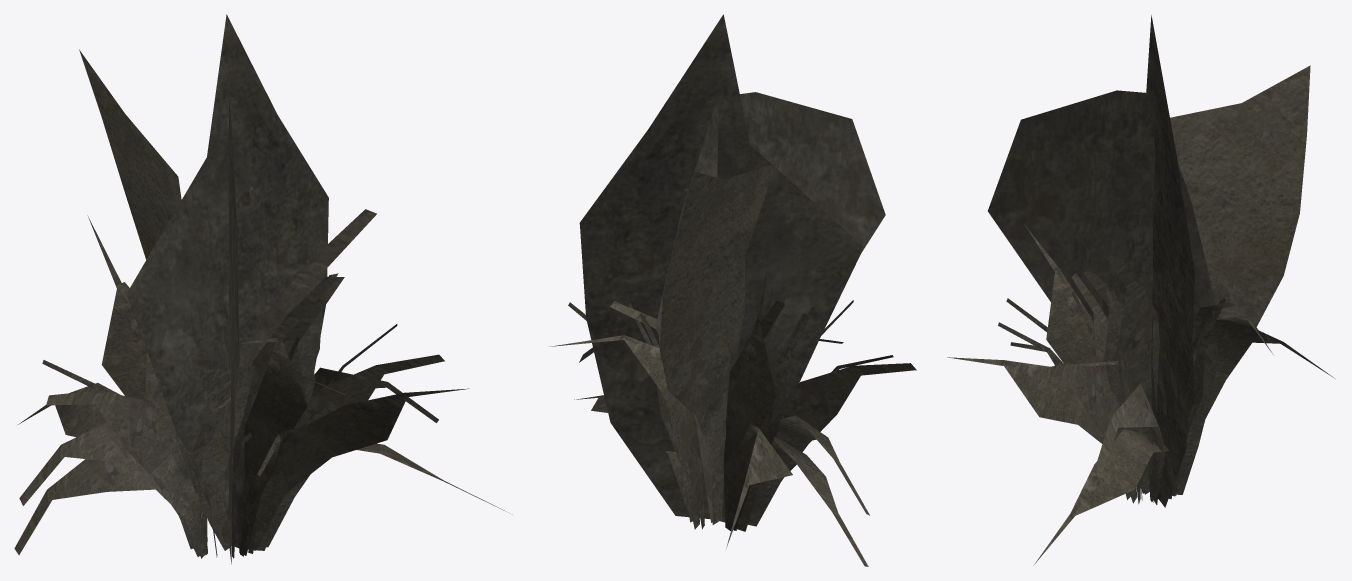
Rendered from SM_GrassMesh_02.fbx.
3 views of the same model, side by side, from view 1: azimuth 30°, elevation 25°; view 2: azimuth 150°, elevation 25°; view 3: azimuth 270°, elevation 25° (orthographic). The views are drawn at different scales.
Visible parts, largest first — view 1: SM_GrassMesh_02; view 2: SM_GrassMesh_02; view 3: SM_GrassMesh_02.
Boxes of the visible parts, x1,y1,x2,y2 form: SM_GrassMesh_02: (14, 14, 512, 564); SM_GrassMesh_02: (549, 14, 916, 566); SM_GrassMesh_02: (947, 15, 1334, 565).
Bounding box in the file's own units: 17.07 × 15.58 × 20.95.
